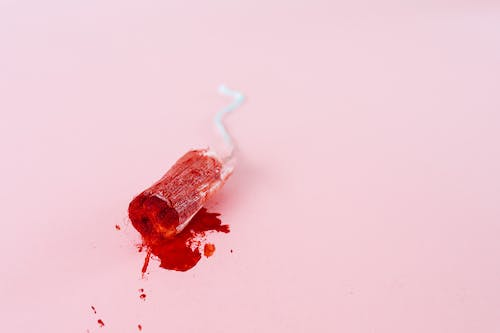blood: (86, 204, 234, 333), (126, 146, 235, 238)
